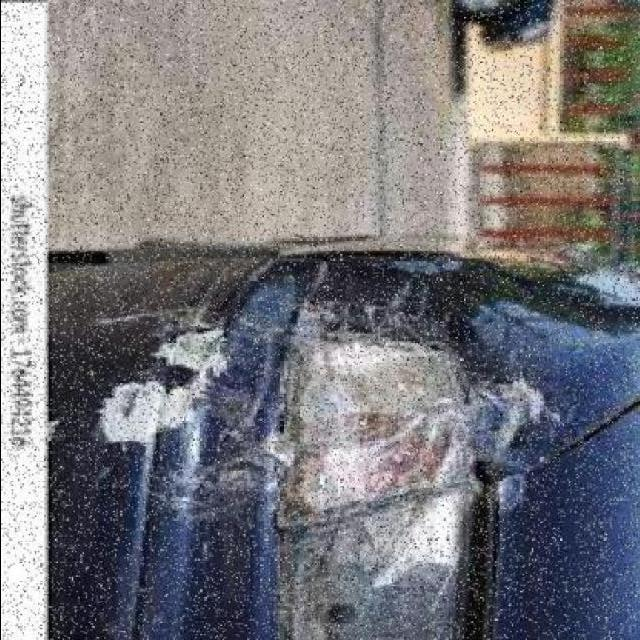Headlight-Damage: (239, 262, 549, 639)
front-bumper-dent: (37, 213, 330, 637)
